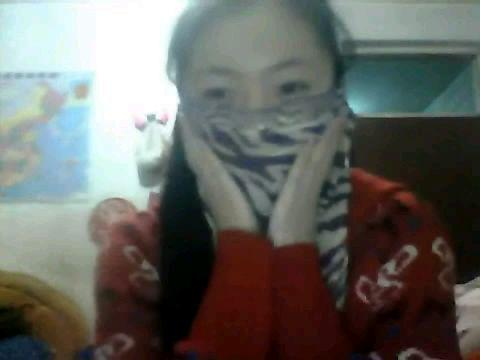OK: (187, 57, 326, 180)
